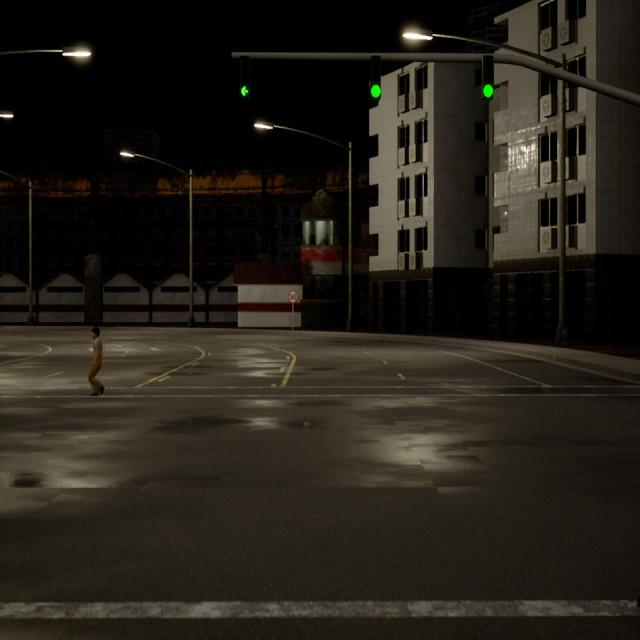Pedestrian: (88, 327, 104, 396)
Traffic_Signs: (289, 291, 297, 302)
traffic_light: (483, 56, 494, 99), (371, 56, 381, 98), (240, 57, 249, 97)
